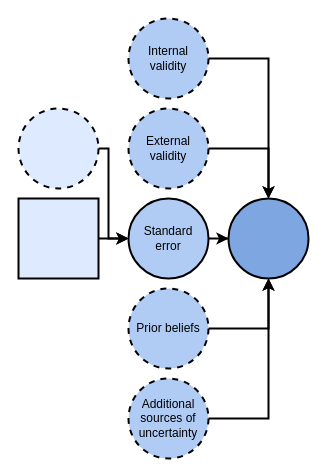
Image size: 326x476. Some labels were removed from this diagram. Each missing label, with the centre of its shape:
Sample size: the point at 58,238
Standard deviation: the point at 58,148
Uncertainty: the point at 268,238
